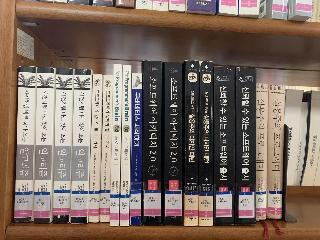book-spine: (14, 66, 36, 223), (235, 67, 257, 224), (70, 69, 92, 224), (214, 67, 235, 226), (142, 60, 162, 225), (33, 67, 54, 223), (52, 68, 73, 223), (164, 62, 183, 226), (265, 84, 285, 219), (184, 60, 199, 226), (199, 60, 213, 226), (88, 74, 103, 223), (99, 75, 113, 222), (110, 64, 122, 226), (120, 65, 132, 227), (254, 83, 268, 221), (131, 73, 142, 226)
